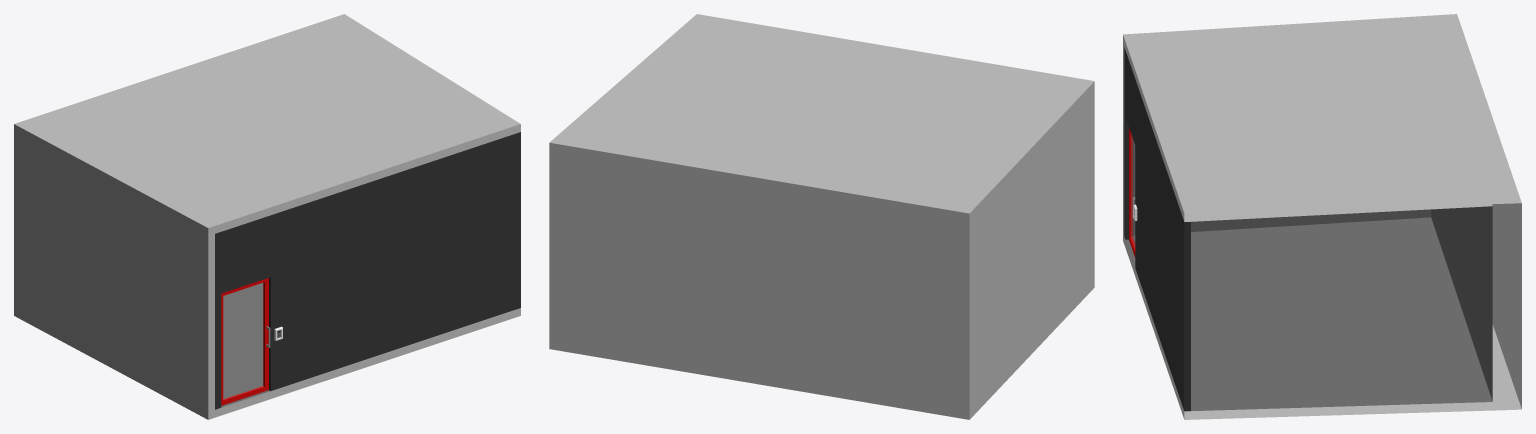
The model's file is escritorio.fbx.
3 views of the same model, side by side, from view 1: azimuth 30°, elevation 25°; view 2: azimuth 150°, elevation 25°; view 3: azimuth 270°, elevation 25° (orthographic). The views are drawn at different scales.
Visible parts, largest first — view 1: setor3_bl11, pasted__moldura24, pasted__vidro5, pasted__moldura32; view 2: setor3_bl11; view 3: setor3_bl11, pasted__moldura24, pasted__moldura32, pasted__vidro5.
Part boxes in pixels (box(x1,y1,x2,y2)): setor3_bl11: box(14, 14, 520, 419); pasted__moldura24: box(215, 132, 520, 409); pasted__vidro5: box(223, 283, 263, 399); pasted__moldura32: box(221, 278, 270, 405); setor3_bl11: box(549, 14, 1094, 419); setor3_bl11: box(1123, 14, 1521, 419); pasted__moldura24: box(1124, 47, 1190, 411); pasted__moldura32: box(1129, 128, 1135, 257); pasted__vidro5: box(1131, 134, 1134, 246).
Size of the model in its own units: 7 by 3.37 by 5.91.
